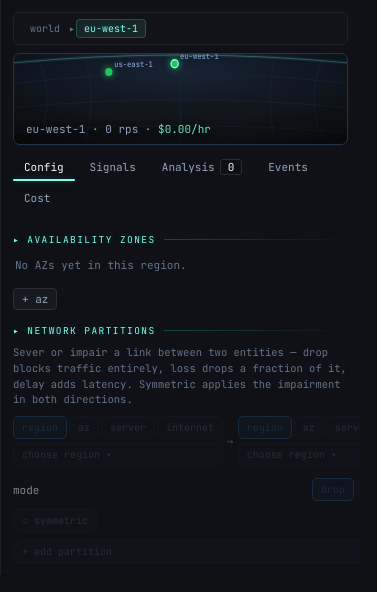
WorldPanel scope (Polish 4 T1) › the Analysis badge reflects the SCOPED count, not the world total
Click the button "Analysis 0" at x=202, y=167, box [151,153,253,181]
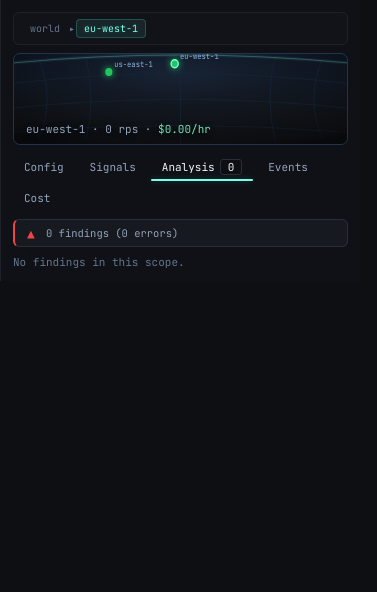
Expected: the text "No findings in this scope." is shown, [13,255,185,269]
